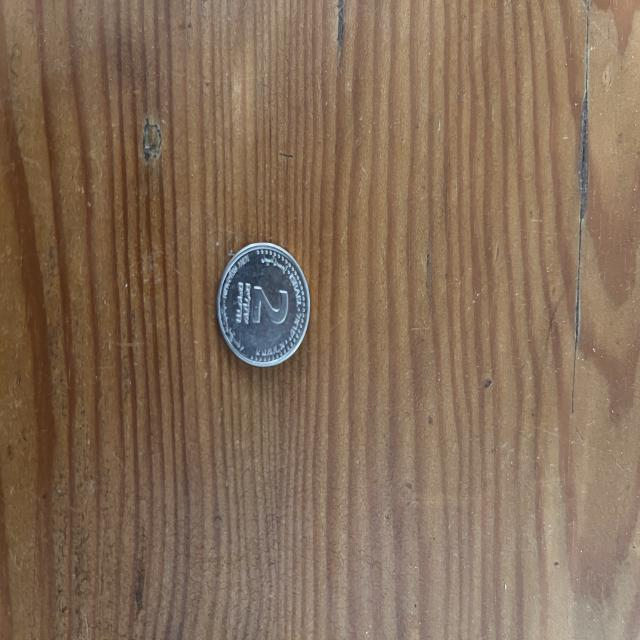2-shekel: (214, 240, 312, 380)
